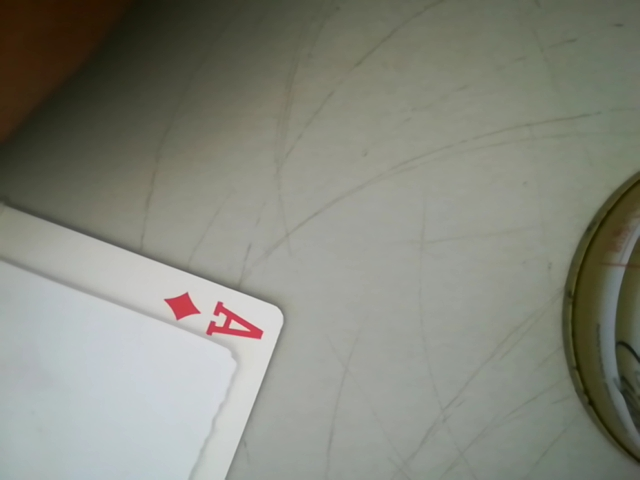fk a: (149, 284, 277, 345)
